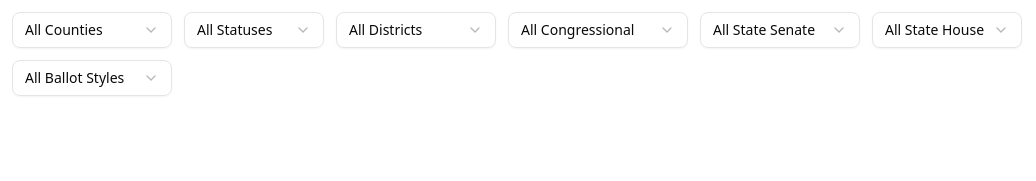
Test: ParticipantFilters › congressional district dropdown renders options from filters
Click the dropdown named "filter by congressional district". click: (598, 30)
box: [508,12,688,48]
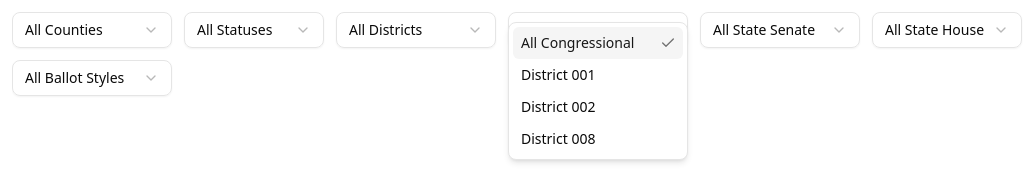
Expected: the option "All Congressional" is shown, [513,27,683,59]
Expected: the option "District 001" is shown, [521,65,595,84]
Expected: the option "District 002" is shown, [521,97,595,116]
